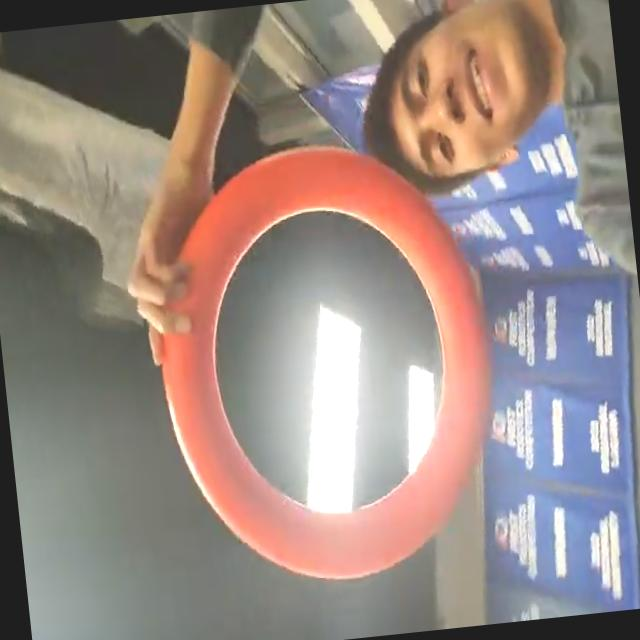note: (141, 128, 518, 594)
